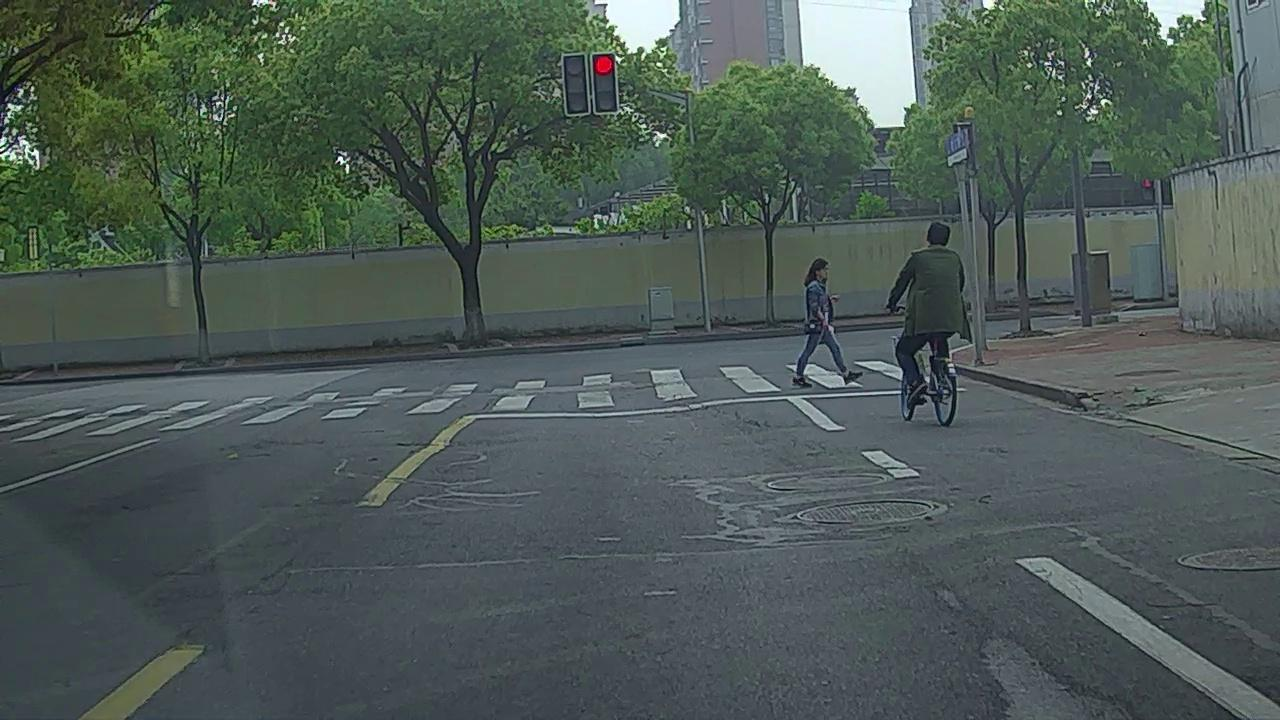traffic_light: (562, 56, 590, 116), (594, 52, 617, 113)
